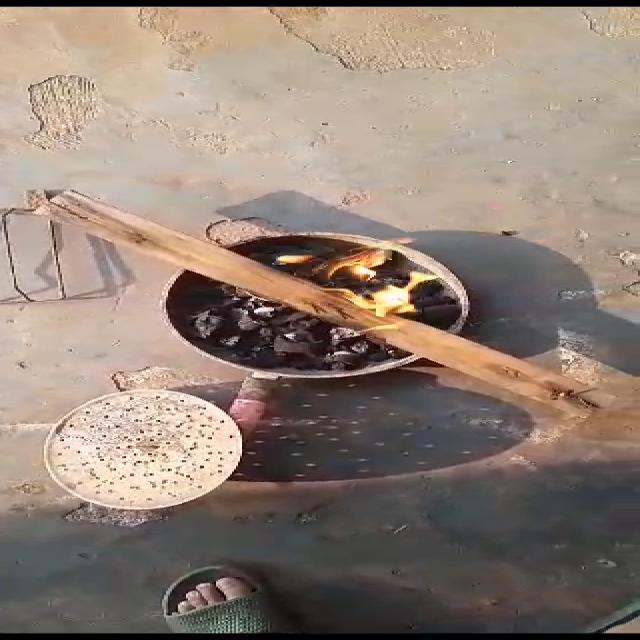Fire: (265, 232, 458, 328)
